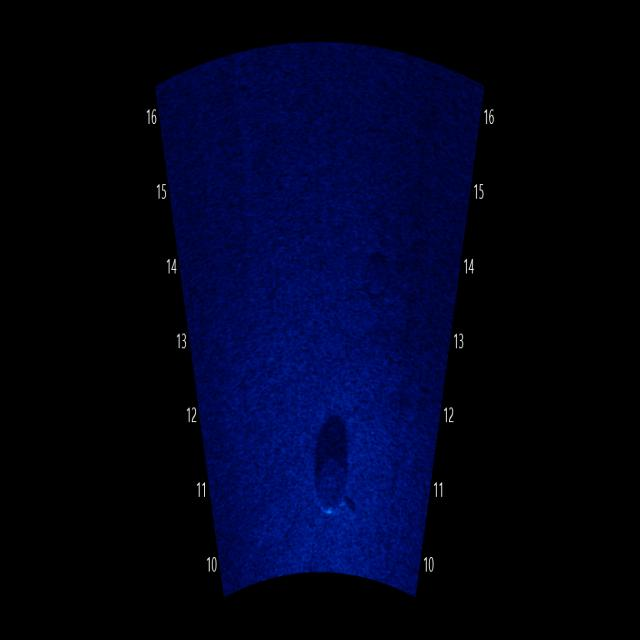circle: (306, 424, 358, 531)
